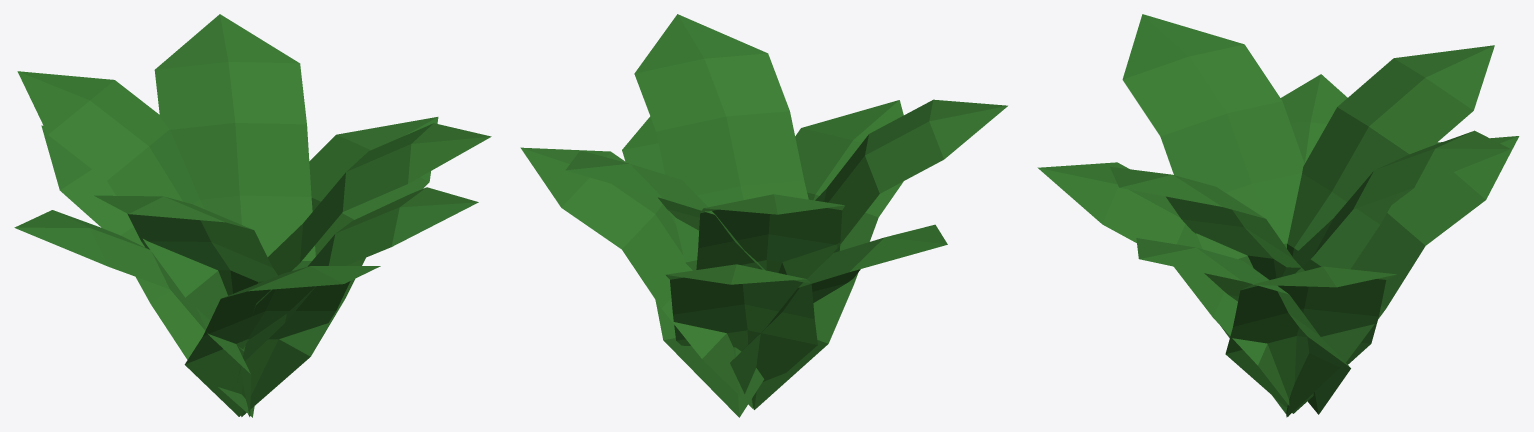
Rendered from Dandelion_Touffe_Clair.FBX.
3 renders of one model, left to right at view 1: azimuth 30°, elevation 25°; view 2: azimuth 150°, elevation 25°; view 3: azimuth 270°, elevation 25°, orthographic. The views are drawn at different scales.
Parts seen in each view (by area): view 1: Hedra022; view 2: Hedra022; view 3: Hedra022.
Part boxes in pixels (x1=…): Hedra022: x1=14, y1=14, x2=491, y2=417; Hedra022: x1=520, y1=14, x2=1007, y2=417; Hedra022: x1=1037, y1=14, x2=1519, y2=417.
Size of the model in its own units: 228 by 153 by 218.
